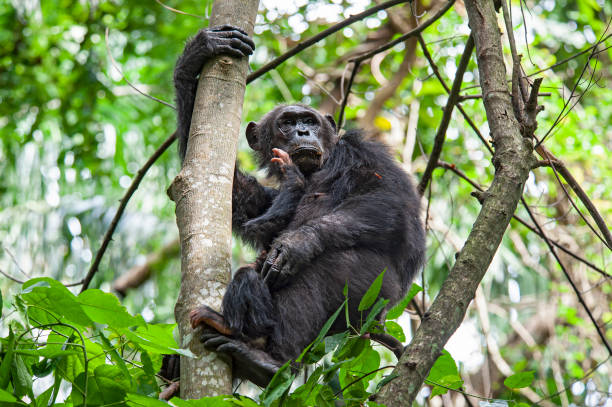chimpanzee: (237, 87, 355, 187)
